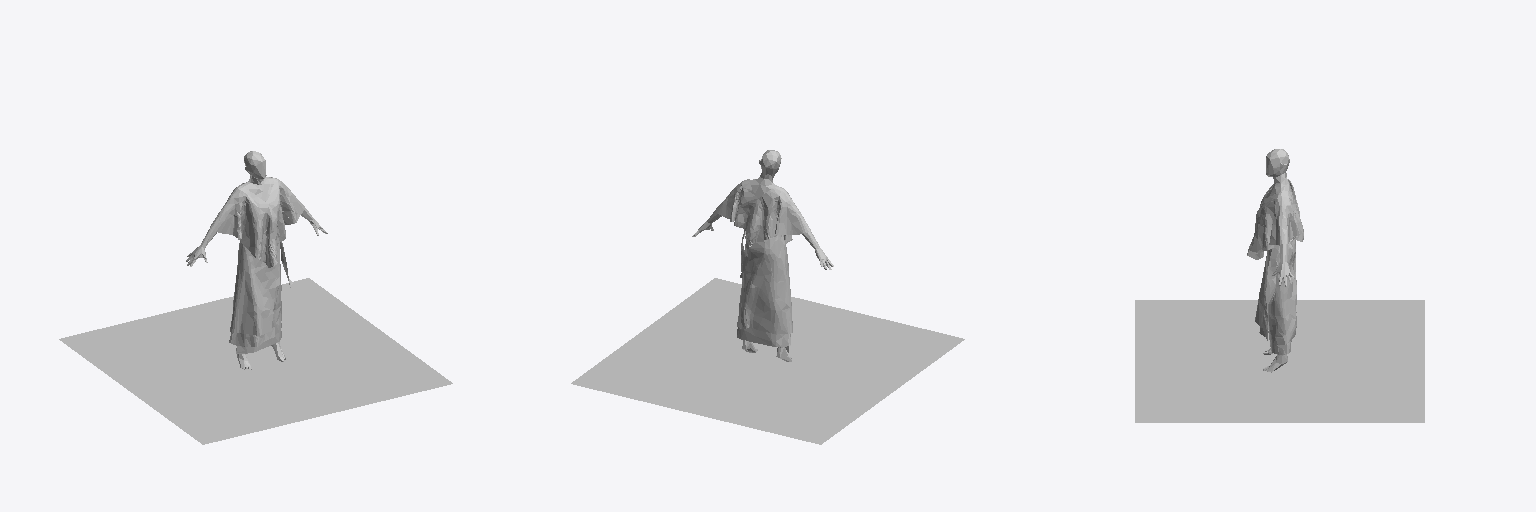
The model's file is wave3.obj.
3 renders of one model, left to right at view 1: azimuth 30°, elevation 25°; view 2: azimuth 150°, elevation 25°; view 3: azimuth 270°, elevation 25°, orthographic.
Visible parts, largest first — view 1: Plane, TrajeTipico, Maniqui; view 2: Plane, TrajeTipico, Maniqui; view 3: Plane, TrajeTipico, Maniqui.
Part boxes in pixels (left/top/right/bottom): Plane: left=59, top=278, right=452, bottom=444; TrajeTipico: left=210, top=177, right=304, bottom=353; Maniqui: left=186, top=151, right=327, bottom=369; Plane: left=571, top=278, right=964, bottom=444; TrajeTipico: left=716, top=179, right=810, bottom=352; Maniqui: left=692, top=150, right=833, bottom=361; Plane: left=1135, top=300, right=1424, bottom=422; TrajeTipico: left=1247, top=179, right=1303, bottom=354; Maniqui: left=1263, top=149, right=1294, bottom=372.
Size of the model in its own units: 235 by 189 by 235.